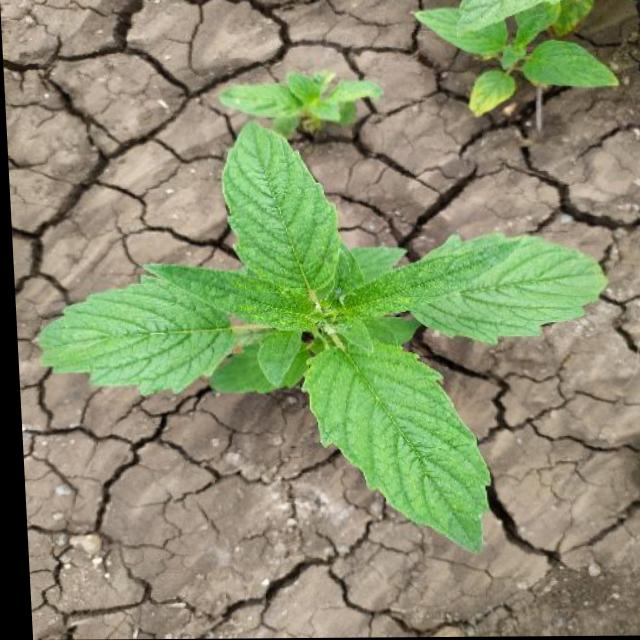crop: (20, 118, 615, 550)
